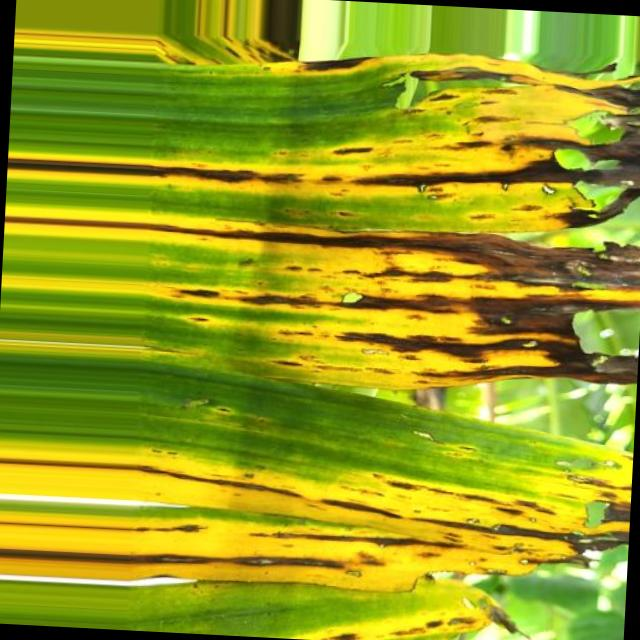Banana_Black_Sigatoka: (342, 146, 610, 425), (337, 419, 607, 592)
